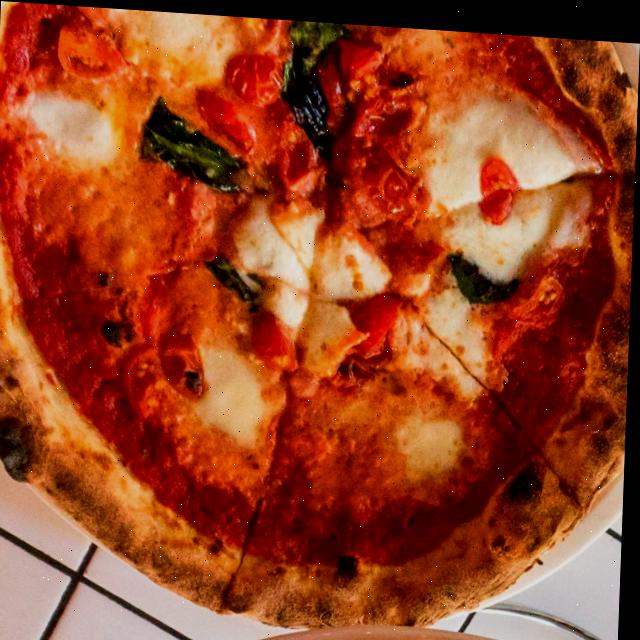basil: (133, 90, 250, 198), (276, 15, 354, 162), (446, 241, 522, 301), (203, 247, 273, 311)
pizza: (0, 0, 640, 638)
tomatoes: (328, 89, 432, 224), (52, 14, 138, 89), (190, 83, 266, 159), (315, 30, 389, 106), (155, 319, 216, 410), (247, 304, 312, 379), (466, 148, 534, 219), (509, 260, 572, 334), (277, 128, 329, 205), (226, 45, 284, 112), (125, 348, 177, 422), (353, 284, 408, 351)
